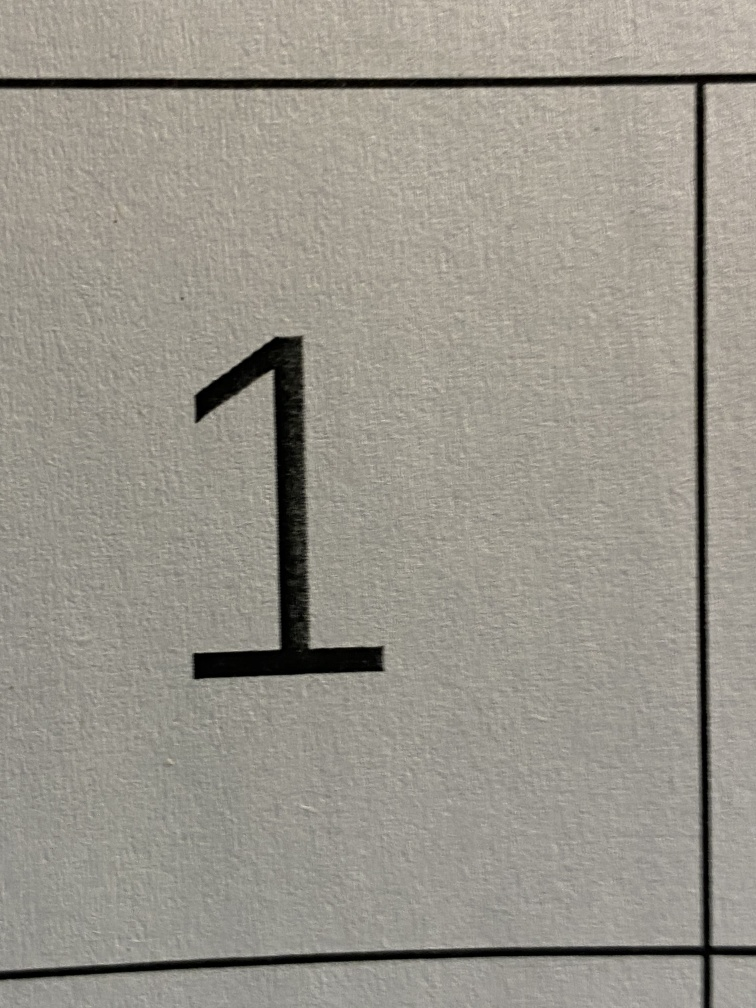one: (157, 286, 404, 731)
